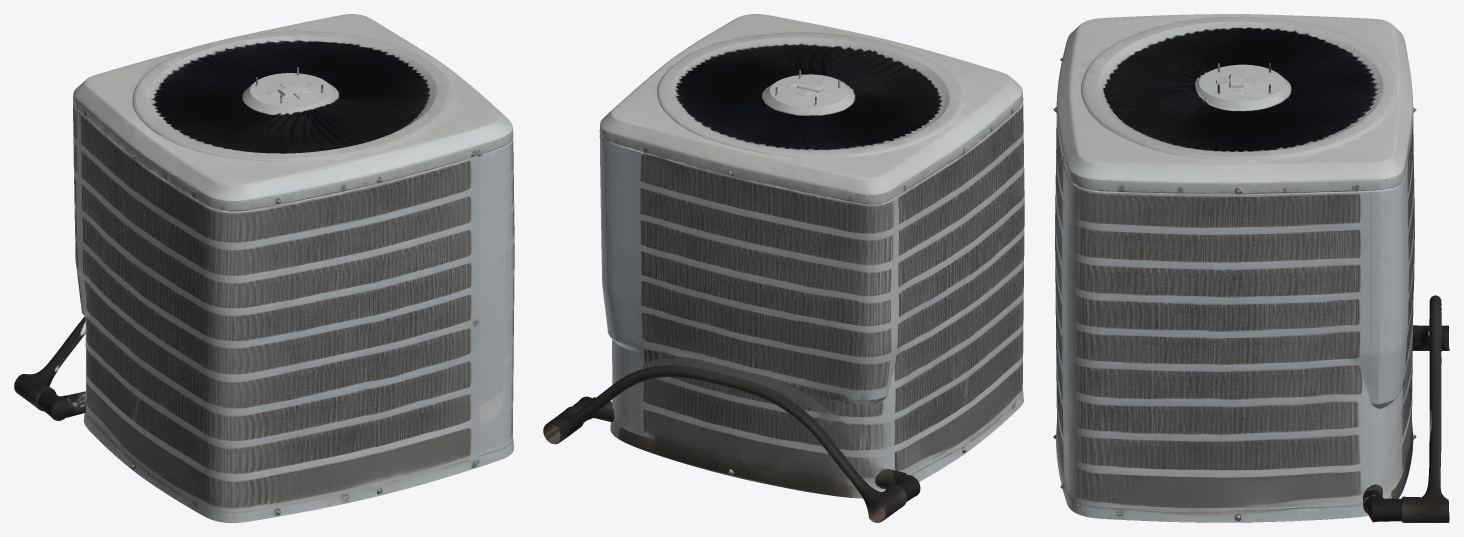
Rendered from outdoor_ac_unit.glb.
The picture shows the model from 3 angles, left to right: view 1: azimuth 30°, elevation 25°; view 2: azimuth 150°, elevation 25°; view 3: azimuth 270°, elevation 25°; orthographic projection. The views are drawn at different scales.
Visible parts, largest first — view 1: Object_3; view 2: Object_3; view 3: Object_3.
Boxes of the visible parts, x1,y1,x2,y2 form: Object_3: (14,14,514,522); Object_3: (543,14,1024,522); Object_3: (1053,14,1449,522).
Bounding box in the file's own units: 1.84 × 1.76 × 1.69.
1 material, 1 textured.
